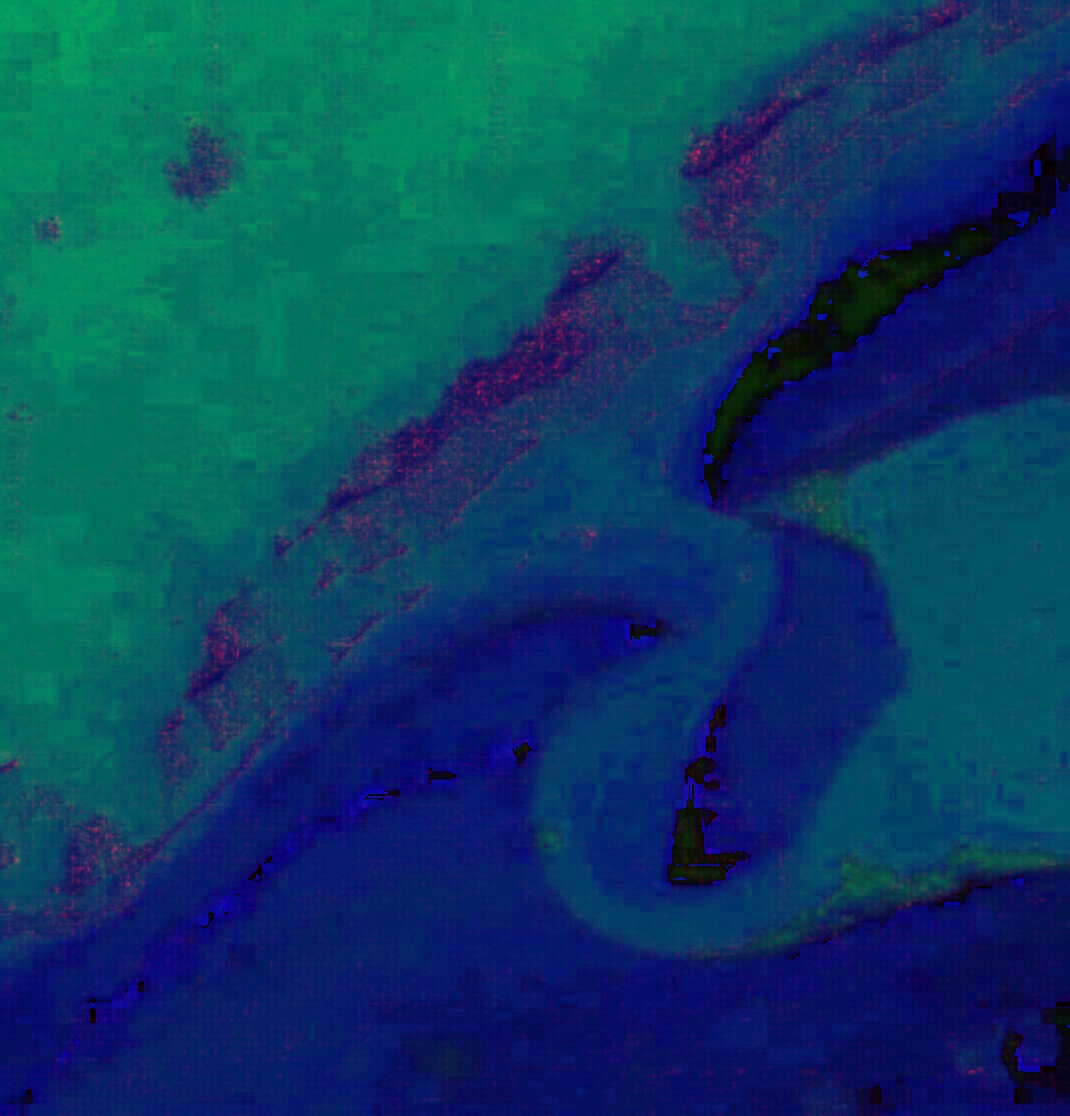rip_current: (582, 154, 752, 310)
